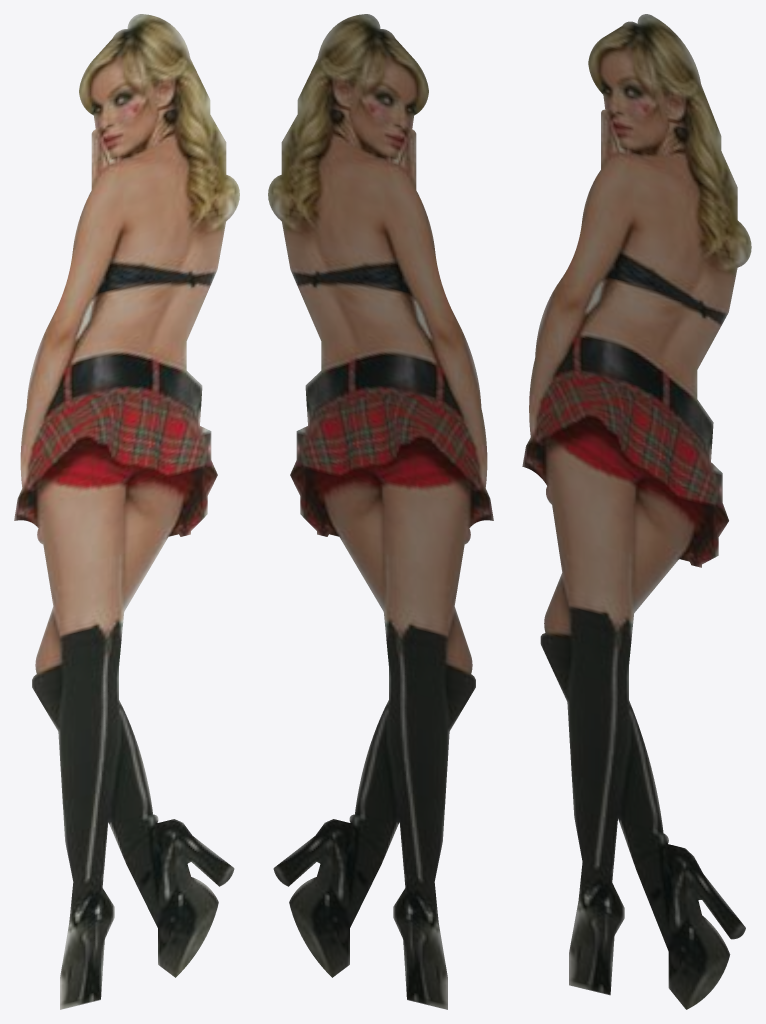
The picture shows the model from 3 angles, left to right: view 1: azimuth 30°, elevation 25°; view 2: azimuth 150°, elevation 25°; view 3: azimuth 330°, elevation 25°; orthographic projection.
Visible parts, largest first — view 1: lola; view 2: lola; view 3: lola.
Part boxes in pixels (<box>): lola: <box>14,14,239,1009</box>; lola: <box>268,14,493,1009</box>; lola: <box>522,14,751,1009</box>.
Size of the model in its own units: 17.53 by 3.55e-15 by 72.39.
Materials: 1 (1 with a texture image).
